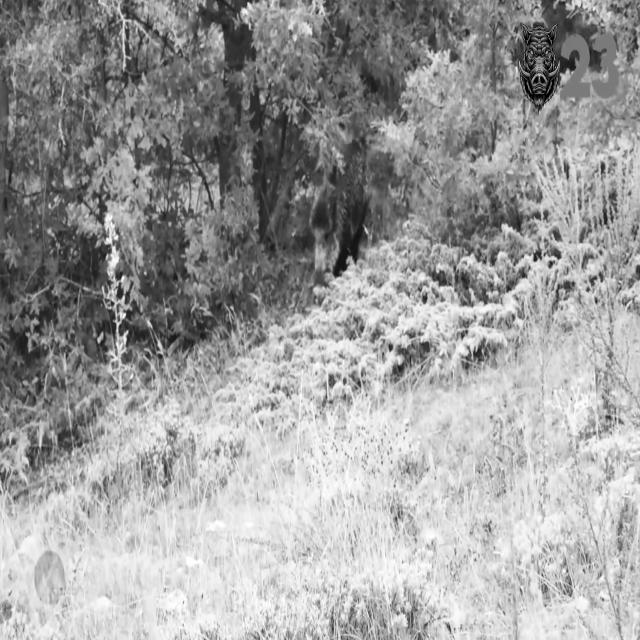boar: (310, 141, 369, 286)
